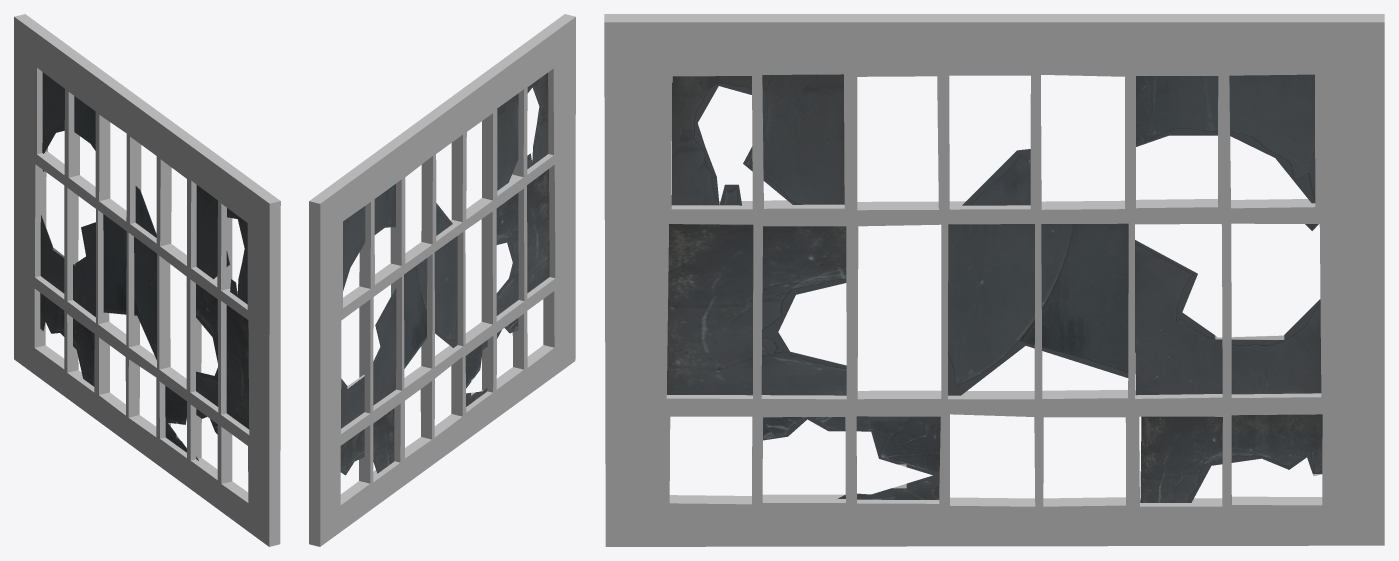
The model's file is Windows_Big_02.fbx.
3 renders of one model, left to right at view 1: azimuth 30°, elevation 25°; view 2: azimuth 150°, elevation 25°; view 3: azimuth 270°, elevation 25°, orthographic. The views are drawn at different scales.
Visible parts, largest first — view 1: Windows_Big_02, Windows_Big_02glass (×8); view 2: Windows_Big_02, Windows_Big_02glass (×7); view 3: Windows_Big_02, Windows_Big_02glass (×8).
Part boxes in pixels (x1,y1,x2,y2): Windows_Big_02: (14,14,280,546); Windows_Big_02glass (×8): (40,72,249,460); Windows_Big_02: (309,14,575,546); Windows_Big_02glass (×7): (340,73,549,475); Windows_Big_02: (604,14,1384,546); Windows_Big_02glass (×8): (667,74,1322,502).
Size of the model in its own units: 5.45 by 216 by 160.
